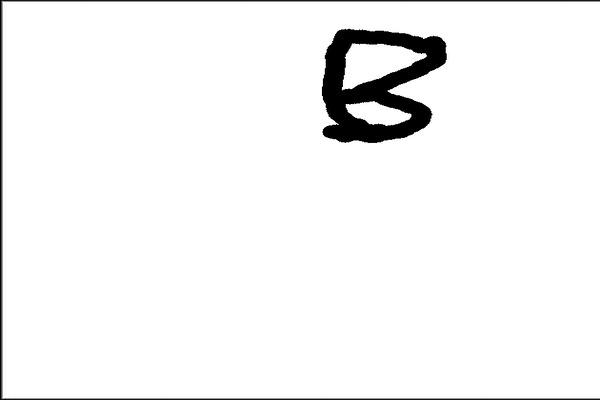B: (307, 21, 457, 156)
